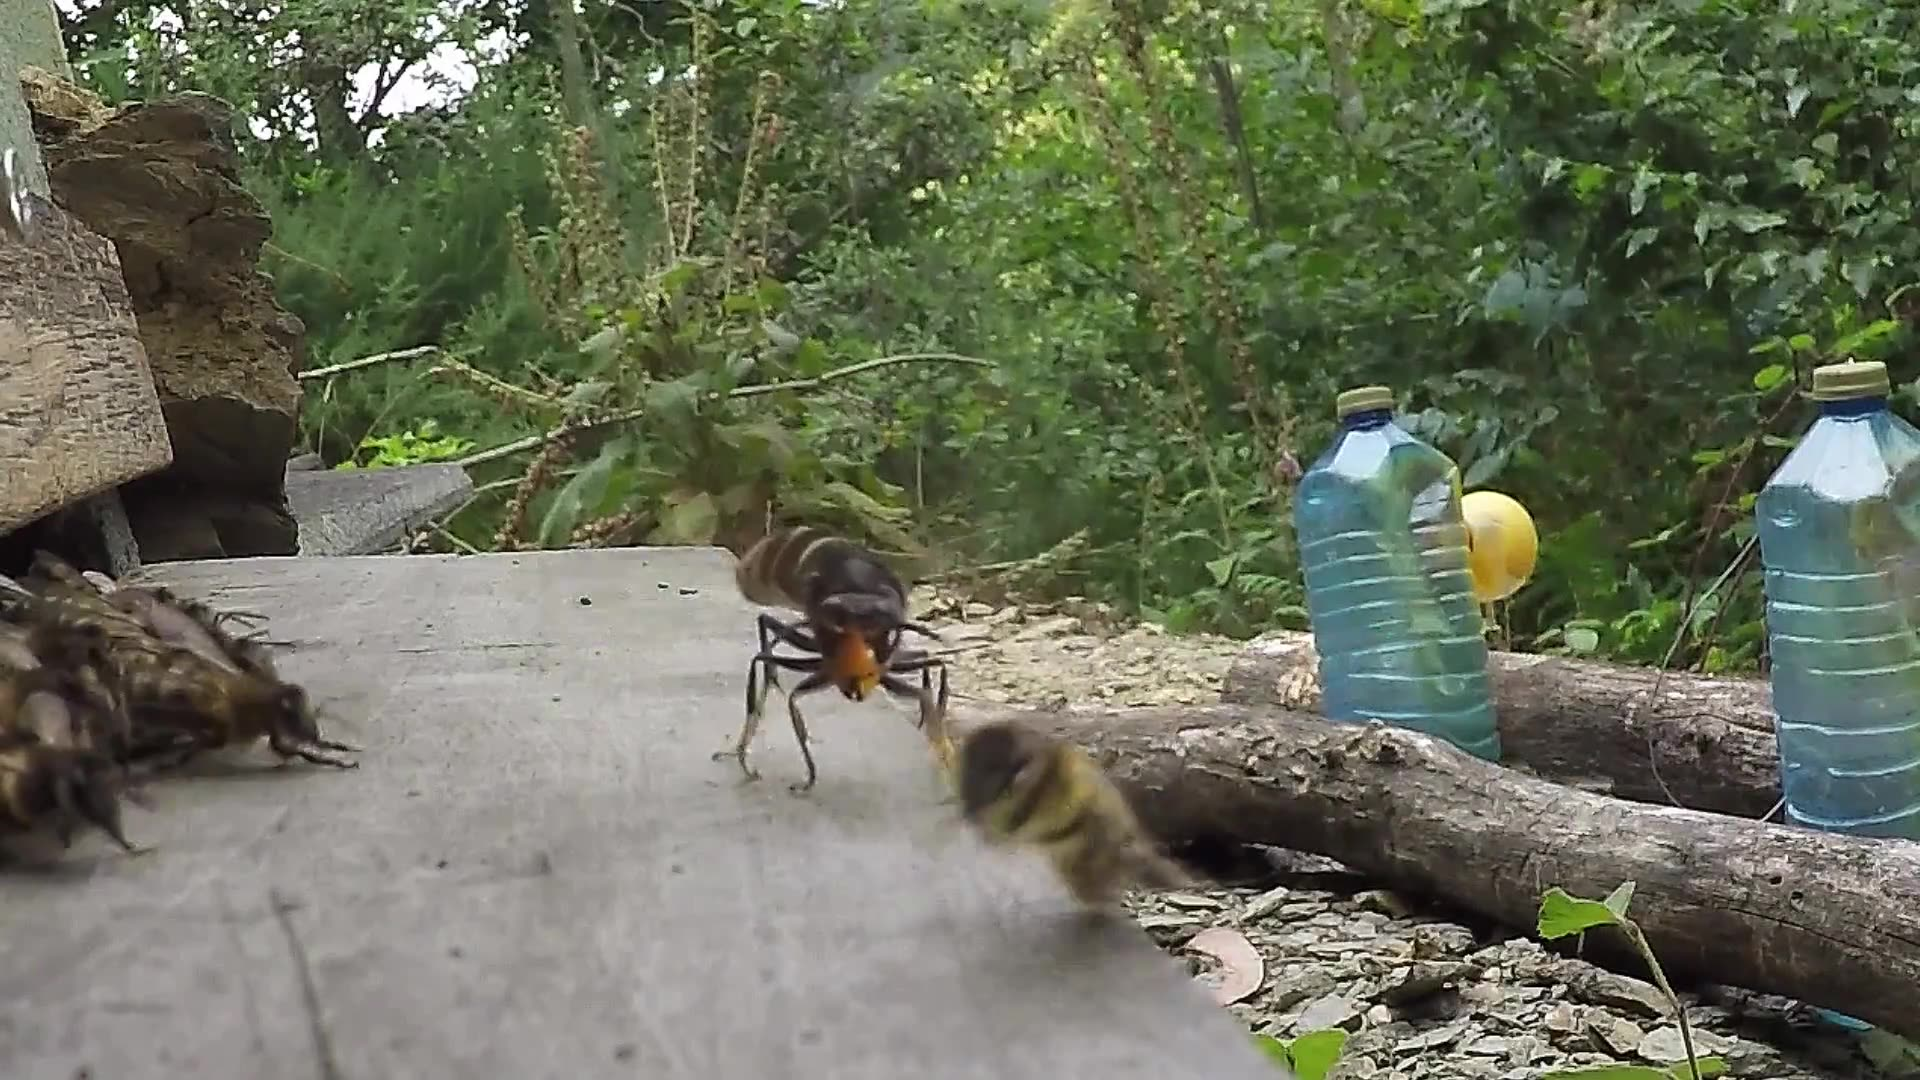bee: (1, 562, 316, 855), (931, 702, 1191, 928)
hornet: (720, 516, 944, 767)
